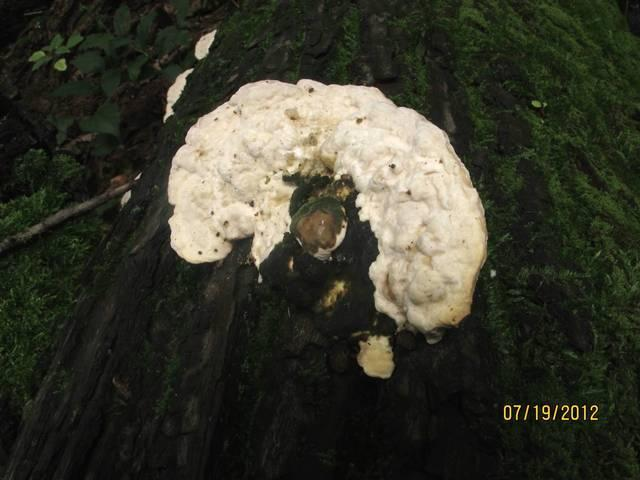poisonous_mushroom: (165, 76, 489, 372)
